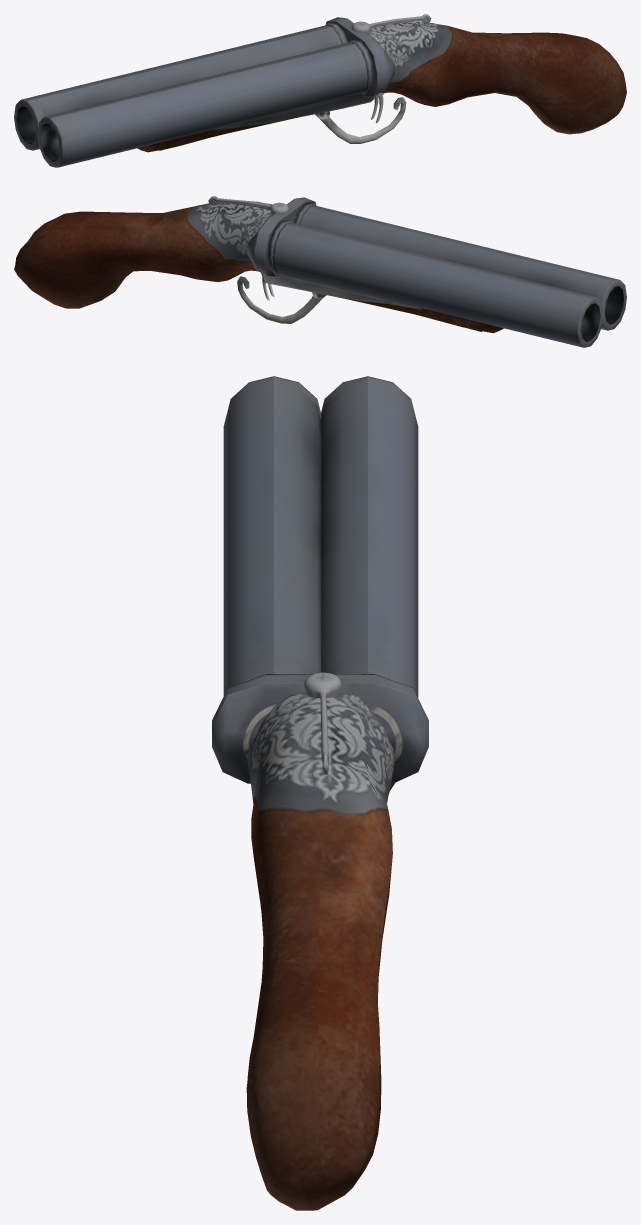
Rendered from gun1.fbx.
3 renders of one model, top to bottom at view 1: azimuth 30°, elevation 25°; view 2: azimuth 150°, elevation 25°; view 3: azimuth 270°, elevation 25°, orthographic. The views are drawn at different scales.
Parts seen in each view (by area): view 1: group5_polySurface16; view 2: group5_polySurface16; view 3: group5_polySurface16.
Boxes of the visible parts, left/top/right/bottom form: group5_polySurface16: left=14, top=14, right=626, bottom=167; group5_polySurface16: left=14, top=196, right=626, bottom=347; group5_polySurface16: left=212, top=376, right=428, bottom=1210.
Bounding box in the file's own units: 41.81 × 10.72 × 6.75.
